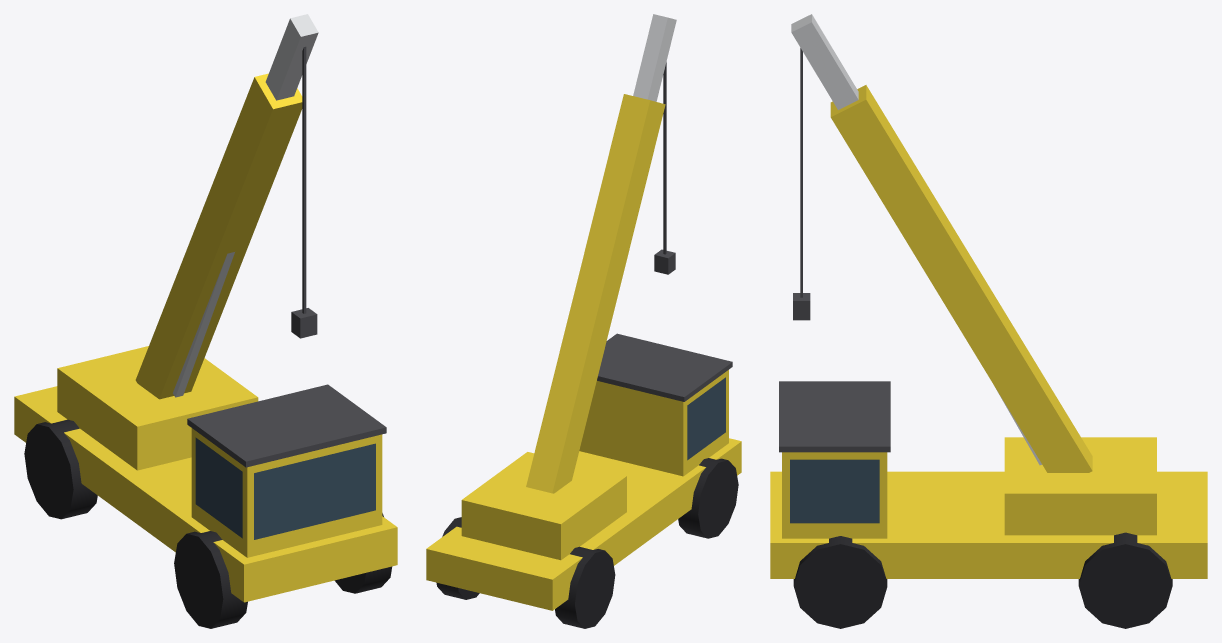
The model's file is scatter3.fbx.
3 views of the same model, side by side, from view 1: azimuth 30°, elevation 25°; view 2: azimuth 150°, elevation 25°; view 3: azimuth 270°, elevation 25° (orthographic). The views are drawn at different scales.
Visible parts, largest first — view 1: a1037/0/scatter3; view 2: a1037/0/scatter3; view 3: a1037/0/scatter3.
Boxes of the visible parts, x1,y1,x2,y2 form: a1037/0/scatter3: (14, 14, 397, 628); a1037/0/scatter3: (426, 14, 741, 628); a1037/0/scatter3: (770, 14, 1207, 628).
Size of the model in its own units: 2.4 by 8.07 by 5.6.
